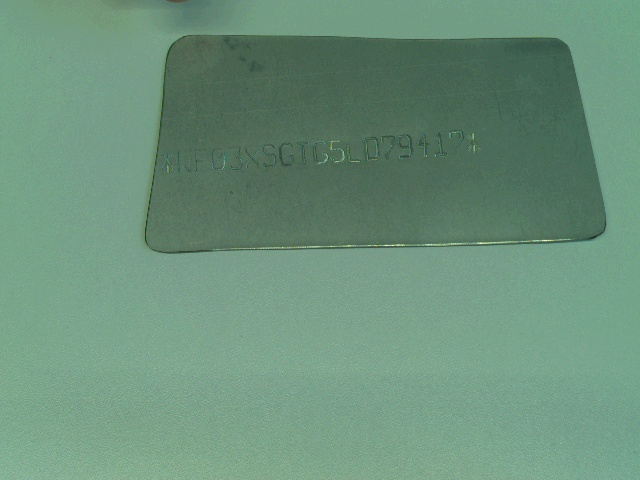0: (210, 146, 228, 172)
1: (433, 130, 447, 158)
3: (227, 144, 243, 171)
4: (417, 131, 431, 160)
5: (328, 138, 346, 163)
7: (448, 128, 465, 160), (380, 134, 396, 163)
9: (397, 134, 415, 161)
d: (364, 135, 381, 161)
f: (193, 147, 209, 173)
g: (279, 140, 296, 168), (313, 140, 329, 166)
l: (346, 139, 362, 164)
s: (261, 143, 279, 169)
t: (296, 141, 311, 166)
w: (175, 148, 194, 173)
x: (242, 145, 261, 172)
